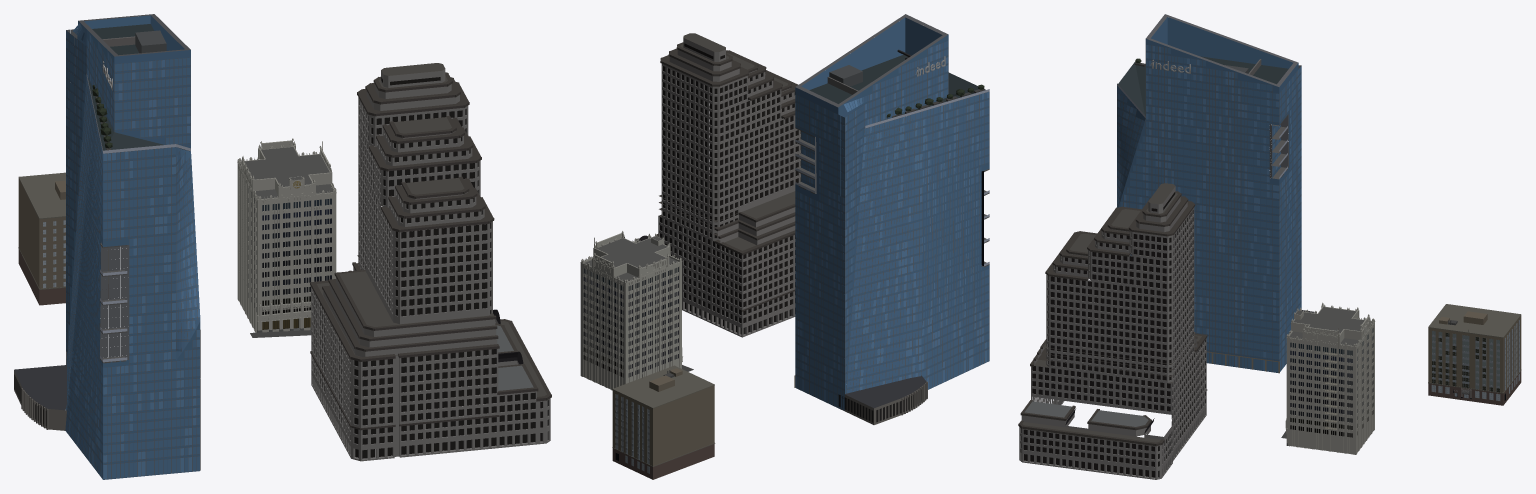
The picture shows the model from 3 angles, left to right: view 1: azimuth 30°, elevation 25°; view 2: azimuth 150°, elevation 25°; view 3: azimuth 270°, elevation 25°; orthographic projection. The views are drawn at different scales.
Visible parts, largest first — view 1: opaque, glass; view 2: glass, opaque; view 3: opaque, glass.
Boxes of the visible parts, box(x1,y1,x2,y2) form: opaque: box(14, 14, 551, 479); glass: box(14, 15, 548, 479); glass: box(583, 17, 989, 473); opaque: box(580, 14, 989, 479); opaque: box(1018, 14, 1521, 479); glass: box(1021, 17, 1519, 477).
Size of the model in its own units: 177 by 162 by 232.
2 materials, 2 textured.
